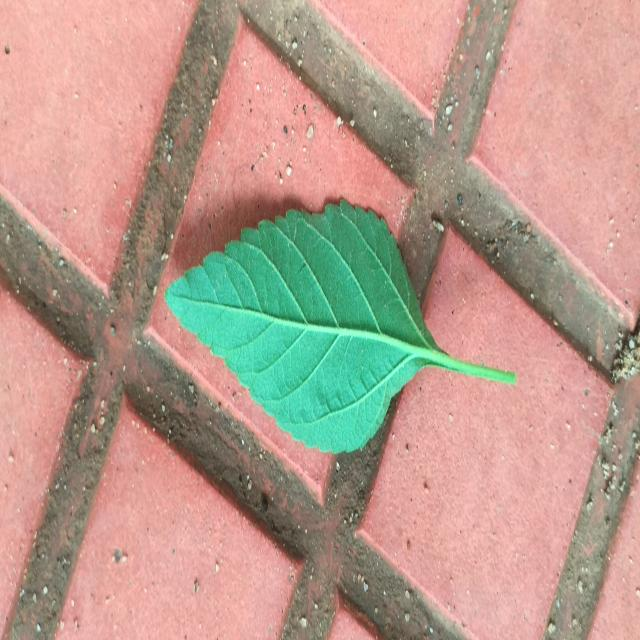Lantana: (166, 200, 516, 453)
